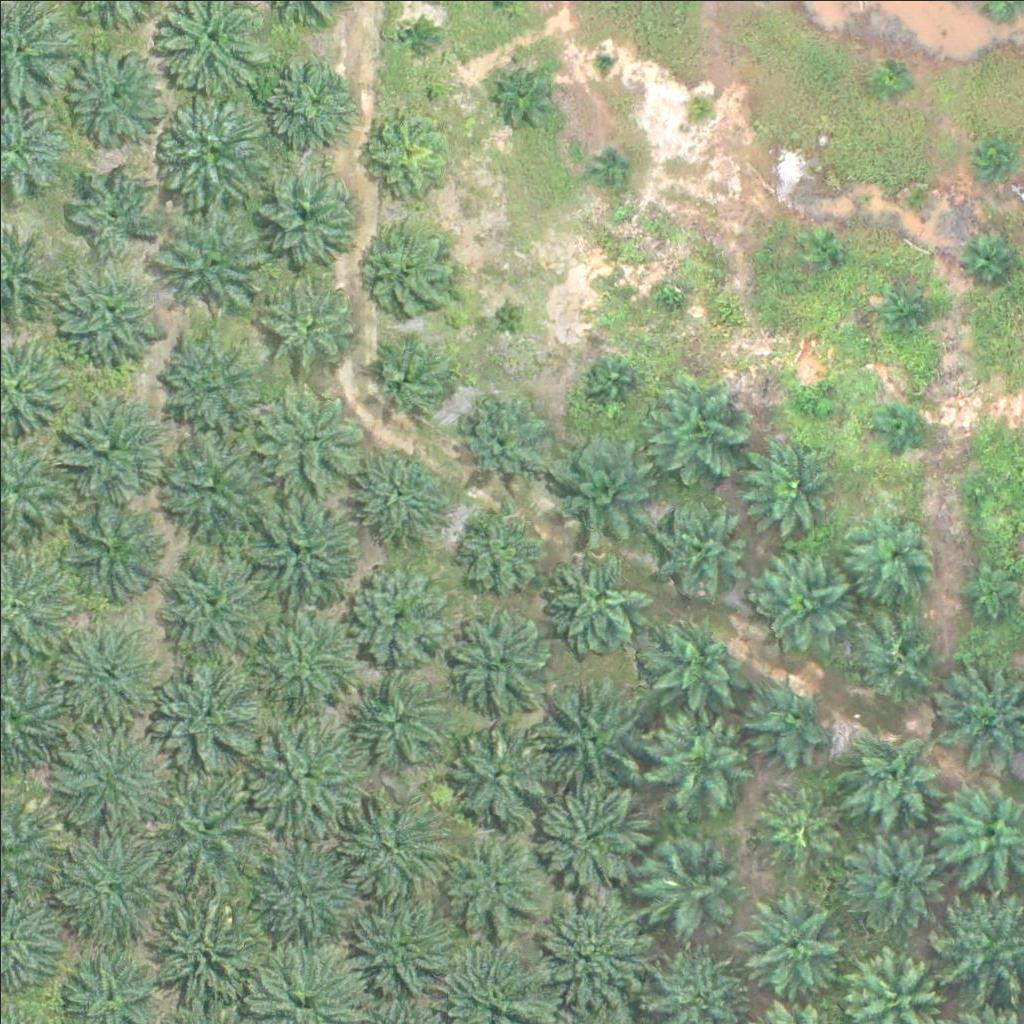Kelapa_Sawit: (524, 891, 649, 1017), (240, 487, 365, 613), (243, 594, 368, 720), (243, 716, 368, 842), (133, 895, 258, 1021), (143, 772, 268, 898), (142, 643, 267, 769), (149, 423, 274, 549), (47, 705, 172, 831), (46, 815, 171, 941), (529, 775, 654, 900), (151, 87, 276, 212), (252, 824, 365, 938), (532, 676, 645, 789), (541, 427, 654, 540), (156, 543, 269, 656), (51, 253, 164, 366), (154, 322, 267, 435), (157, 204, 270, 317), (50, 493, 162, 606), (253, 377, 365, 490), (647, 615, 747, 716), (752, 546, 852, 647), (841, 822, 941, 923), (841, 728, 941, 829), (848, 609, 948, 710), (546, 548, 646, 649), (449, 600, 549, 701), (451, 721, 551, 822), (446, 833, 546, 934), (338, 791, 438, 892), (345, 562, 445, 663), (349, 437, 449, 538), (61, 153, 161, 254), (66, 44, 166, 145), (263, 283, 363, 384), (252, 166, 352, 267), (255, 47, 355, 148), (360, 328, 460, 429), (358, 222, 458, 323), (353, 101, 453, 202), (647, 374, 747, 475), (639, 832, 739, 932), (651, 706, 751, 806), (740, 890, 840, 990), (357, 899, 457, 999), (50, 611, 150, 711), (56, 394, 156, 494), (744, 435, 844, 535), (744, 674, 832, 762), (751, 782, 839, 870), (657, 504, 745, 592), (354, 670, 442, 758), (847, 506, 934, 595), (458, 395, 545, 484), (459, 503, 546, 591), (495, 58, 558, 121), (956, 564, 1018, 627), (967, 227, 1017, 278), (589, 356, 639, 407), (883, 283, 933, 333), (870, 406, 920, 456), (792, 383, 830, 421), (801, 232, 839, 270), (649, 276, 687, 314), (487, 295, 525, 333), (681, 86, 719, 124), (390, 17, 428, 55), (959, 471, 996, 509), (598, 147, 635, 185), (901, 186, 938, 224), (975, 137, 1012, 174), (870, 64, 907, 101), (591, 50, 616, 75)
